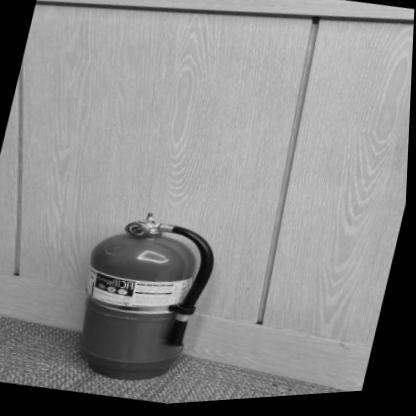FE: (68, 203, 223, 396)
